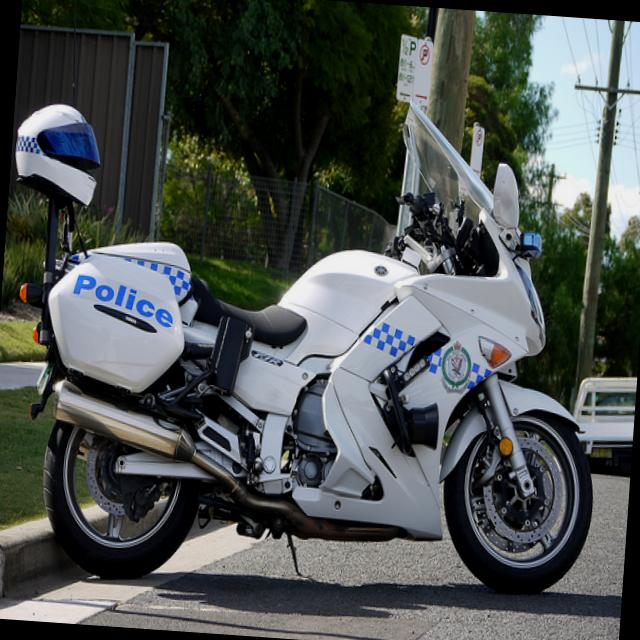Vehicle: (0, 69, 624, 610), (570, 372, 637, 474)
